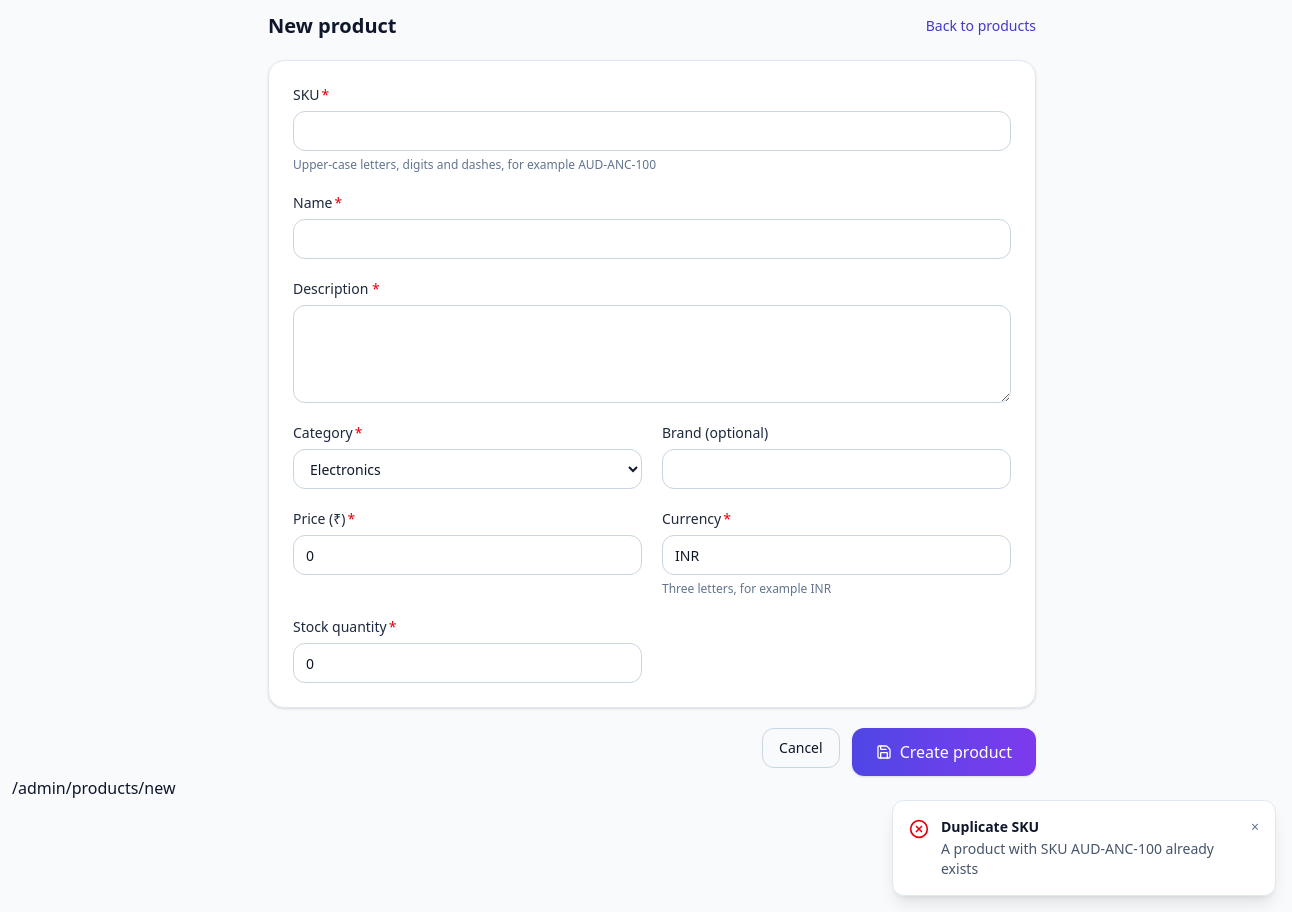
Test case: ProductFormPage (admin) › maps field errors from a 400 response onto the matching fields
The width and height of the screenshot is (1292, 912).
Step 1. Type "TST-LMP-001" into the field labelled "SKU*" → (652, 131), box [293,111,1011,151]
Step 2. Type "Test Lamp" into the field labelled "Name*" → (652, 239), box [293,219,1011,259]
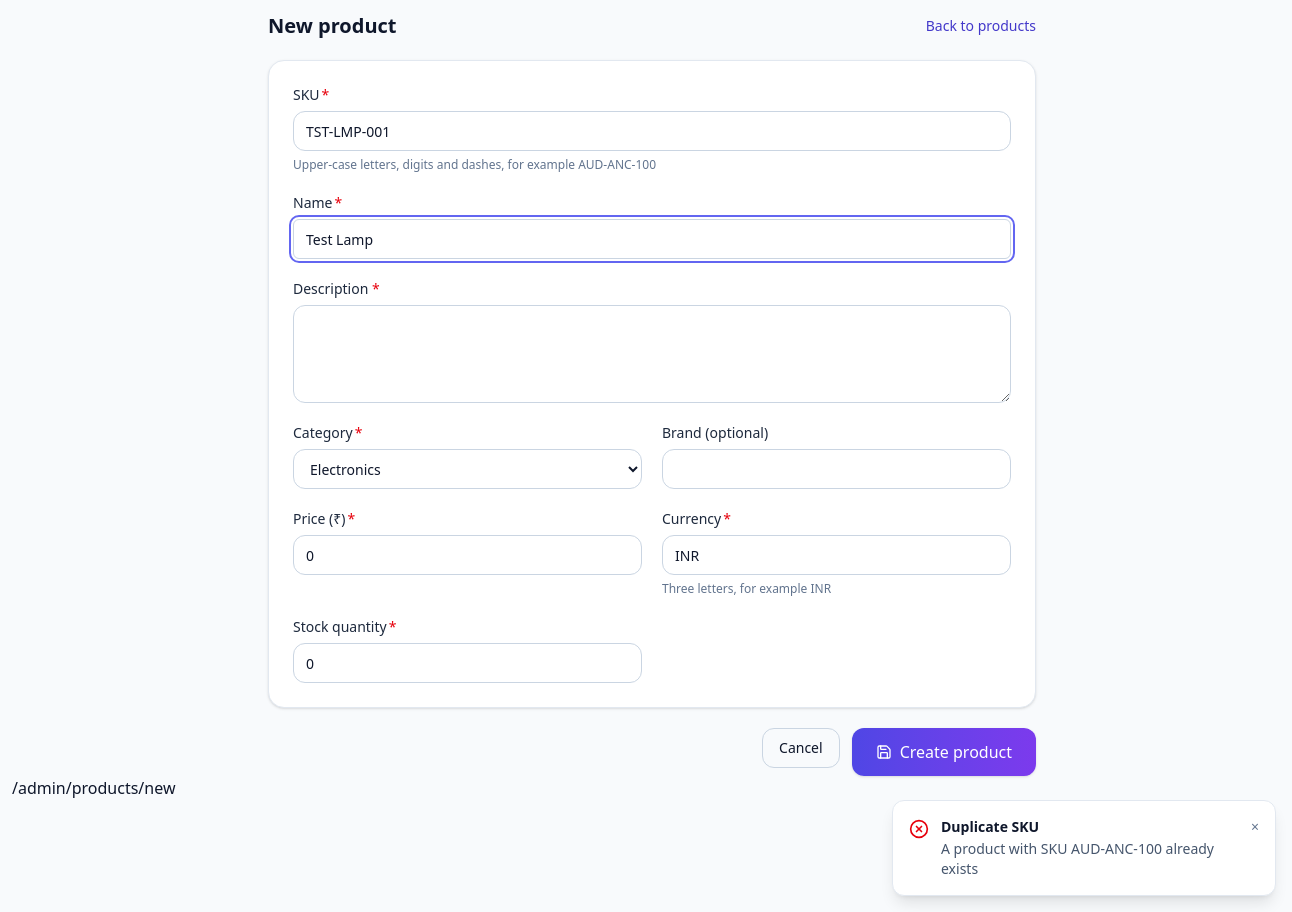
Step 3. Type "A small lamp for the desk." into the text box labelled "Description *" → (652, 354), box [293,305,1011,403]
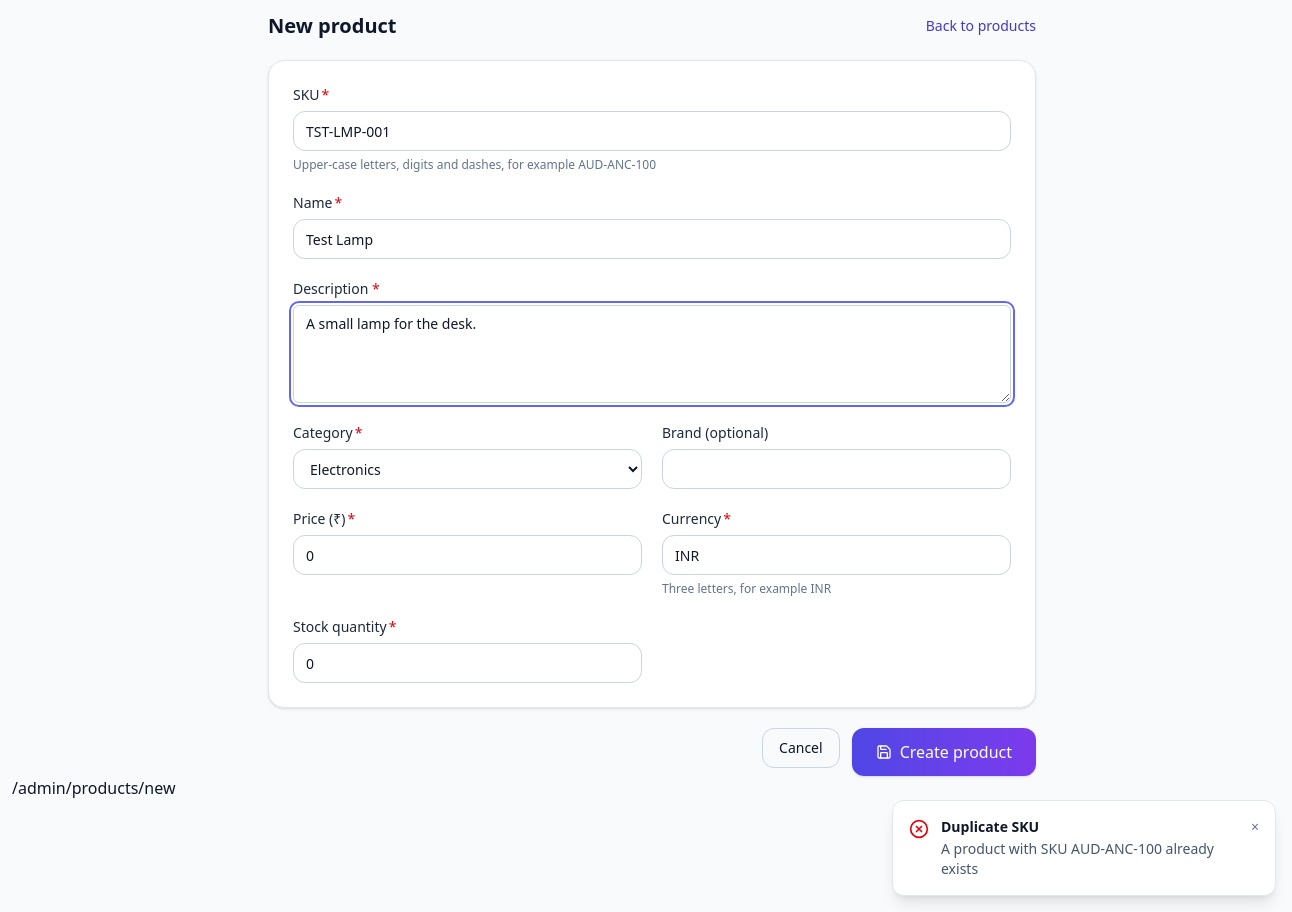
Step 4. Select "Home" in the dropdown labelled "Category*" → (468, 469), box [293,449,642,489]
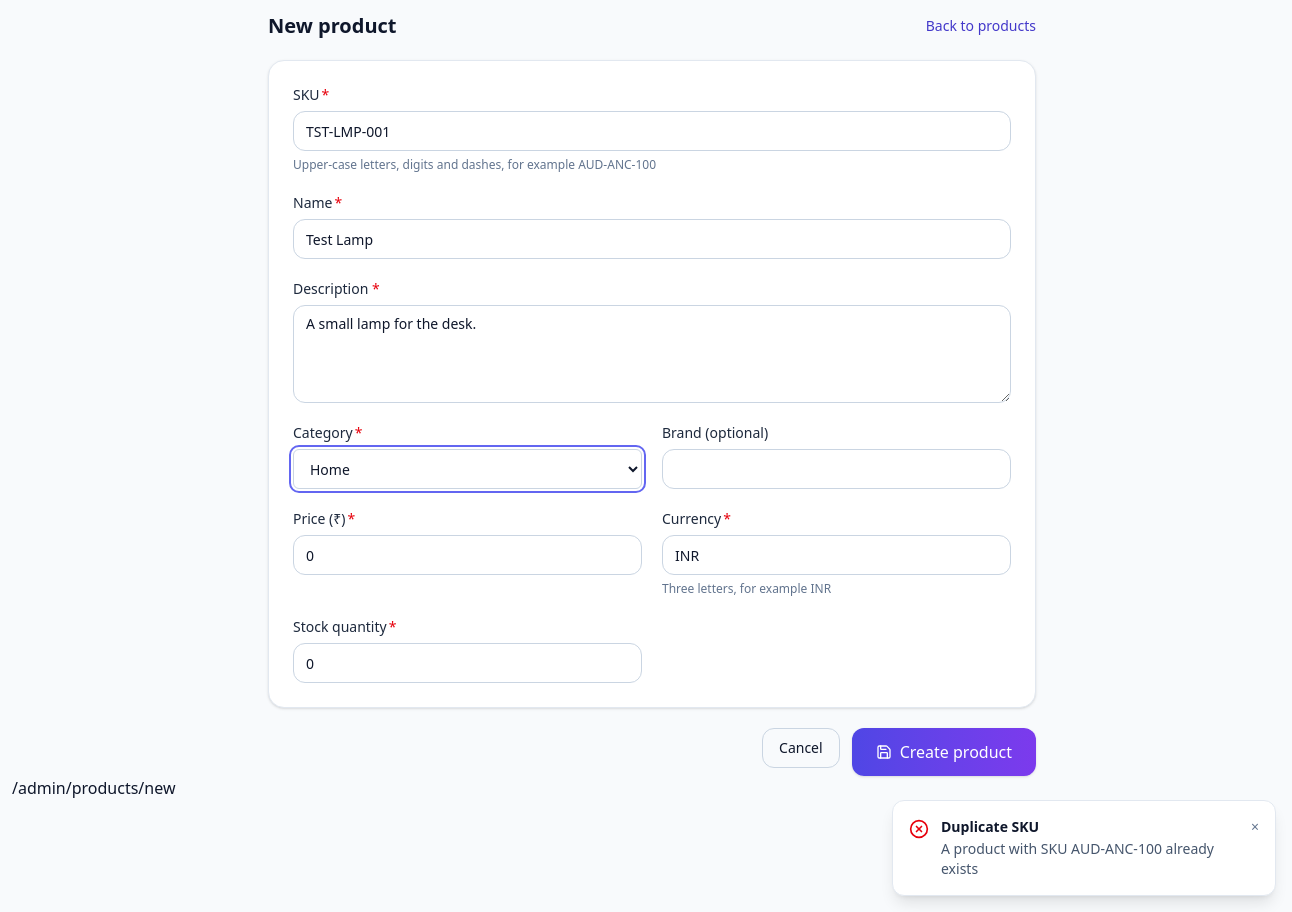
Step 5. Type "999" into the number field labelled "Price (₹)*" → (468, 555), box [293,535,642,575]
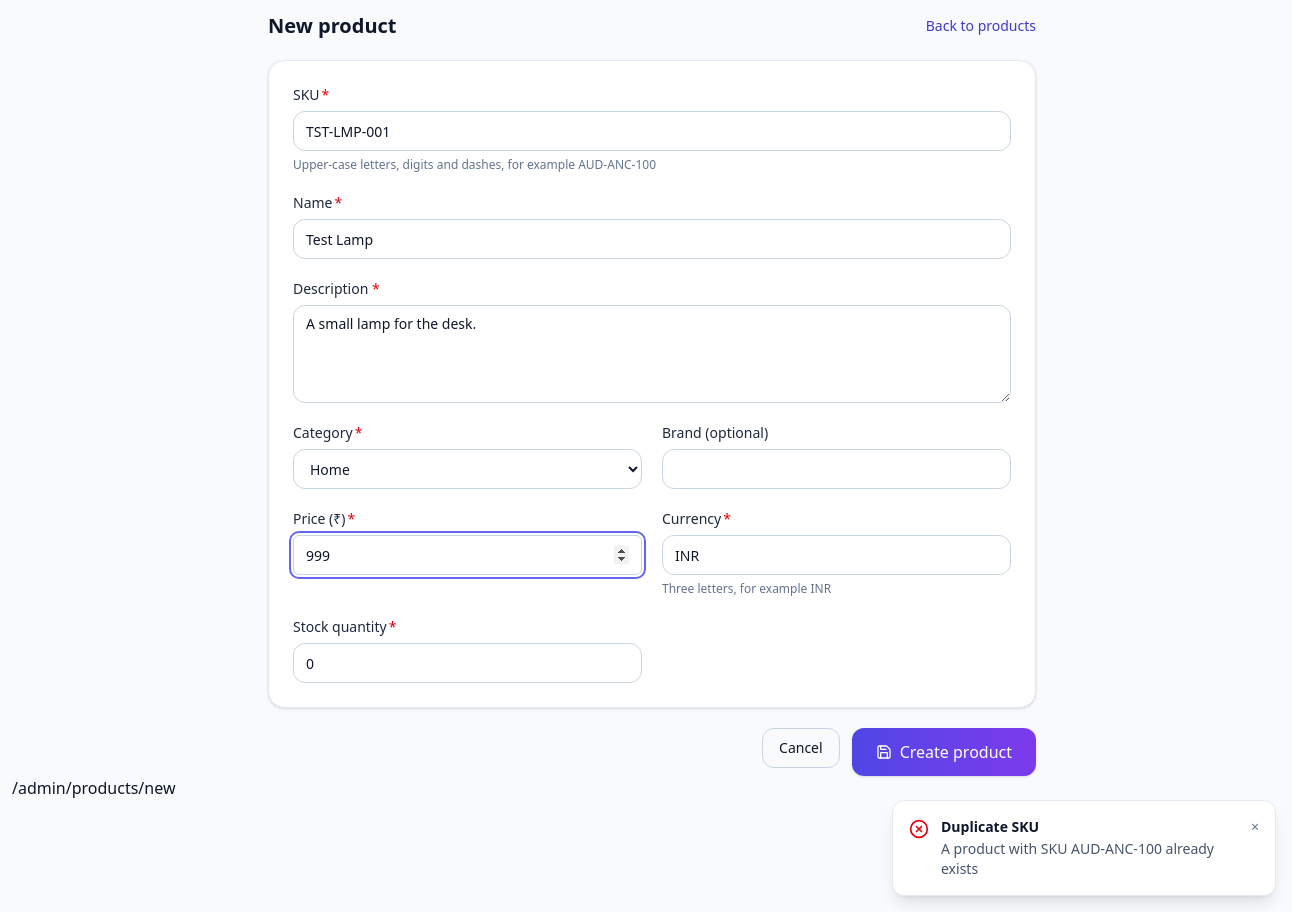
Step 6. Type "12" into the number field labelled "Stock quantity*" → (468, 663), box [293,643,642,683]
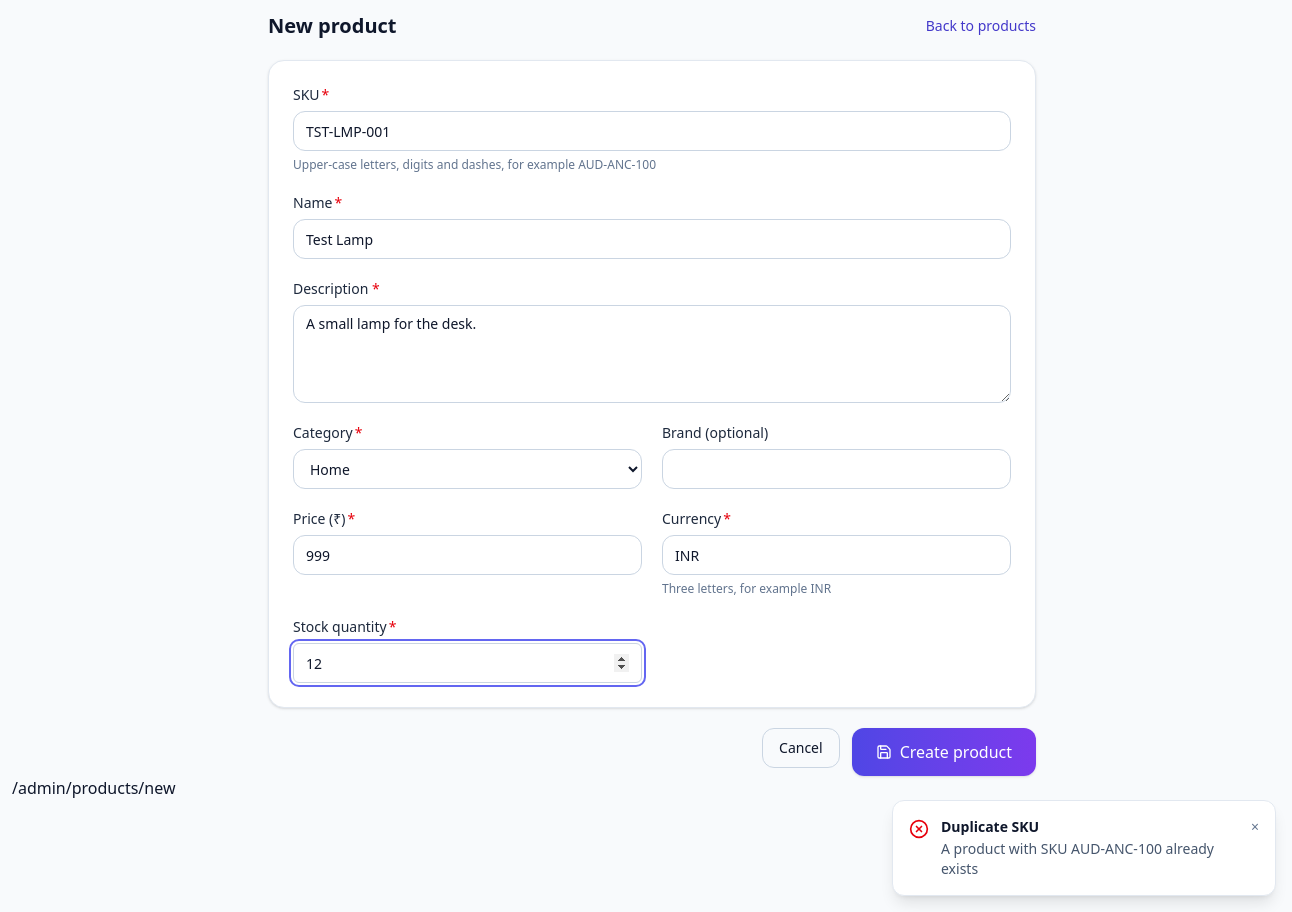
Step 7. Click the button "Create product" → (944, 752), box [852,728,1036,776]
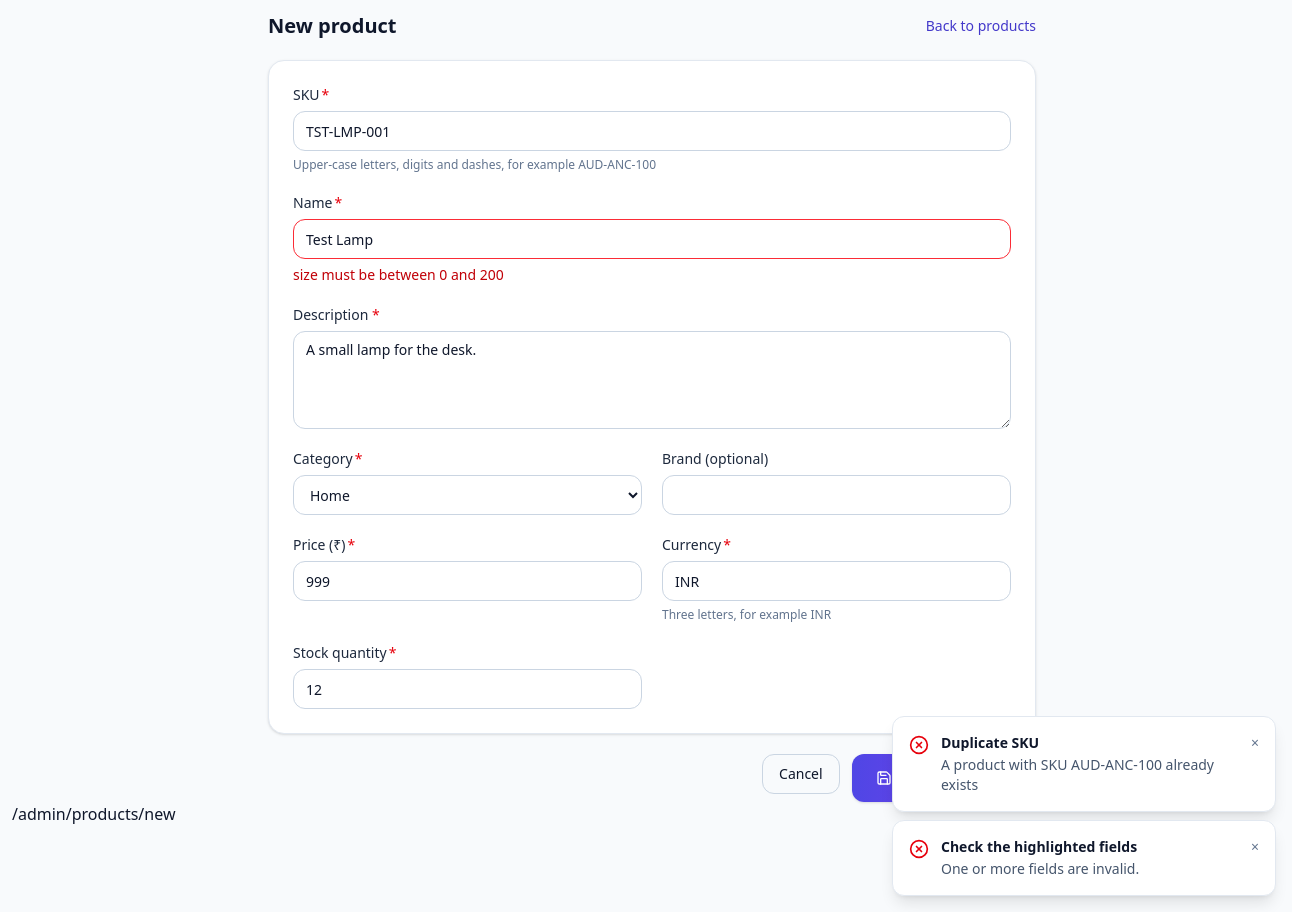
Check: the text "size must be between 0 and 200" is shown, box [293,265,504,284]
